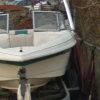Boat: (0, 8, 78, 97)
